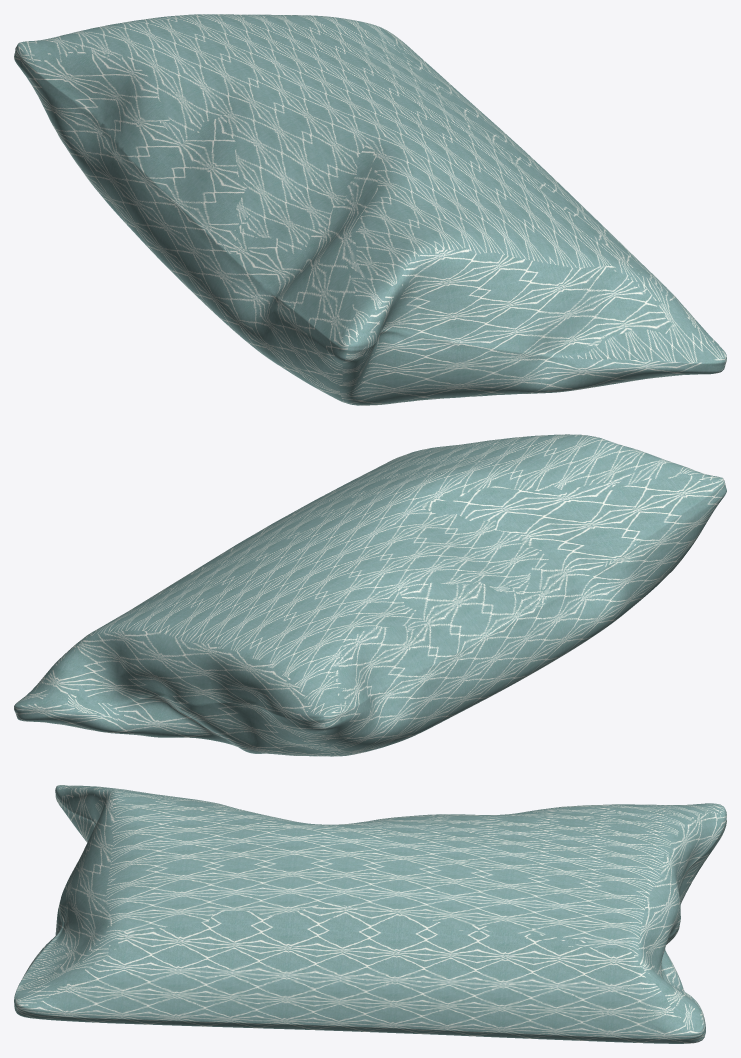
Rendered from pillow4.fbx.
3 views of the same model, one above another, from view 1: azimuth 30°, elevation 25°; view 2: azimuth 150°, elevation 25°; view 3: azimuth 270°, elevation 25° (orthographic). The views are drawn at different scales.
Parts seen in each view (by area): view 1: Pillow004; view 2: Pillow004; view 3: Pillow004.
Part boxes in pixels (x1,y1,x2,y2): Pillow004: (14,14,726,405); Pillow004: (14,434,726,756); Pillow004: (14,785,726,1043).
Size of the model in its own units: 36.52 by 12.11 by 61.38.
